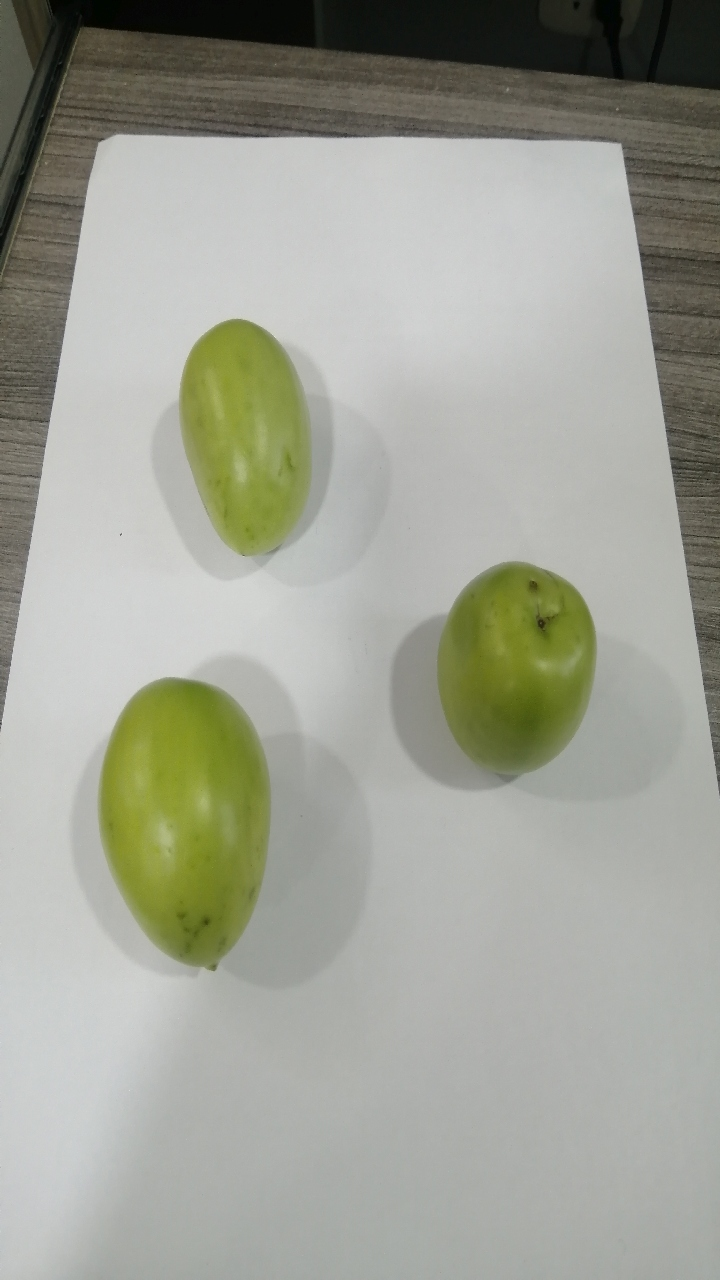tomateVerde: (83, 657, 272, 986), (155, 300, 340, 585), (426, 545, 608, 812)
